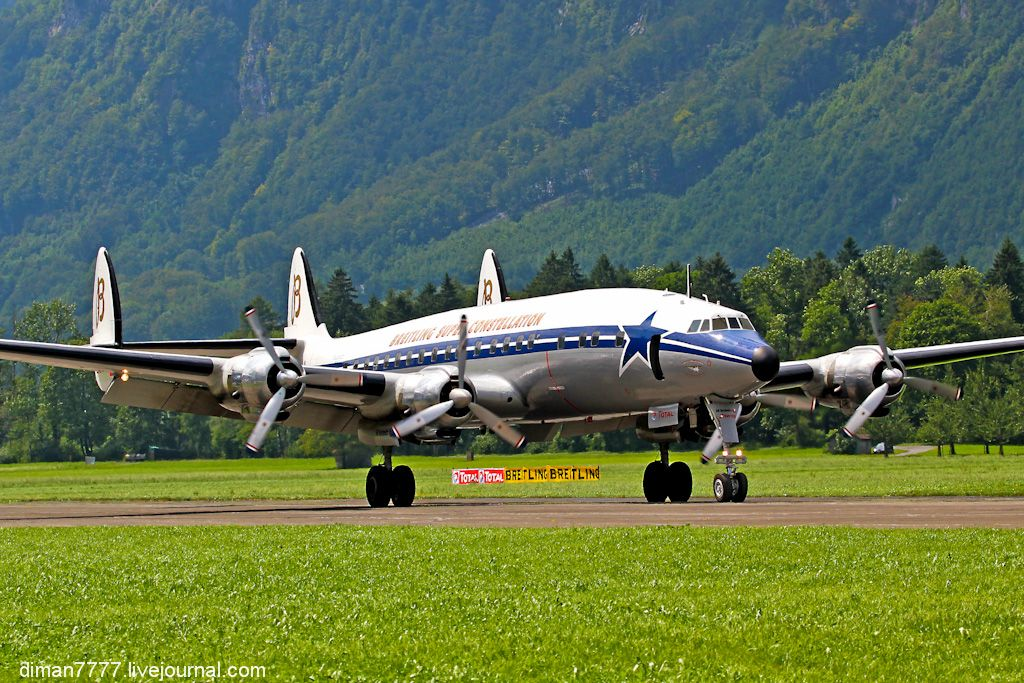Aeronef_commercial: (2, 226, 1024, 521)
